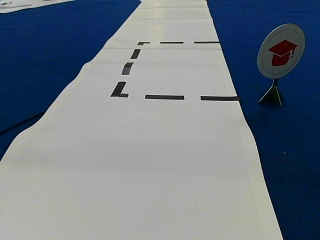school: (256, 24, 305, 78)
